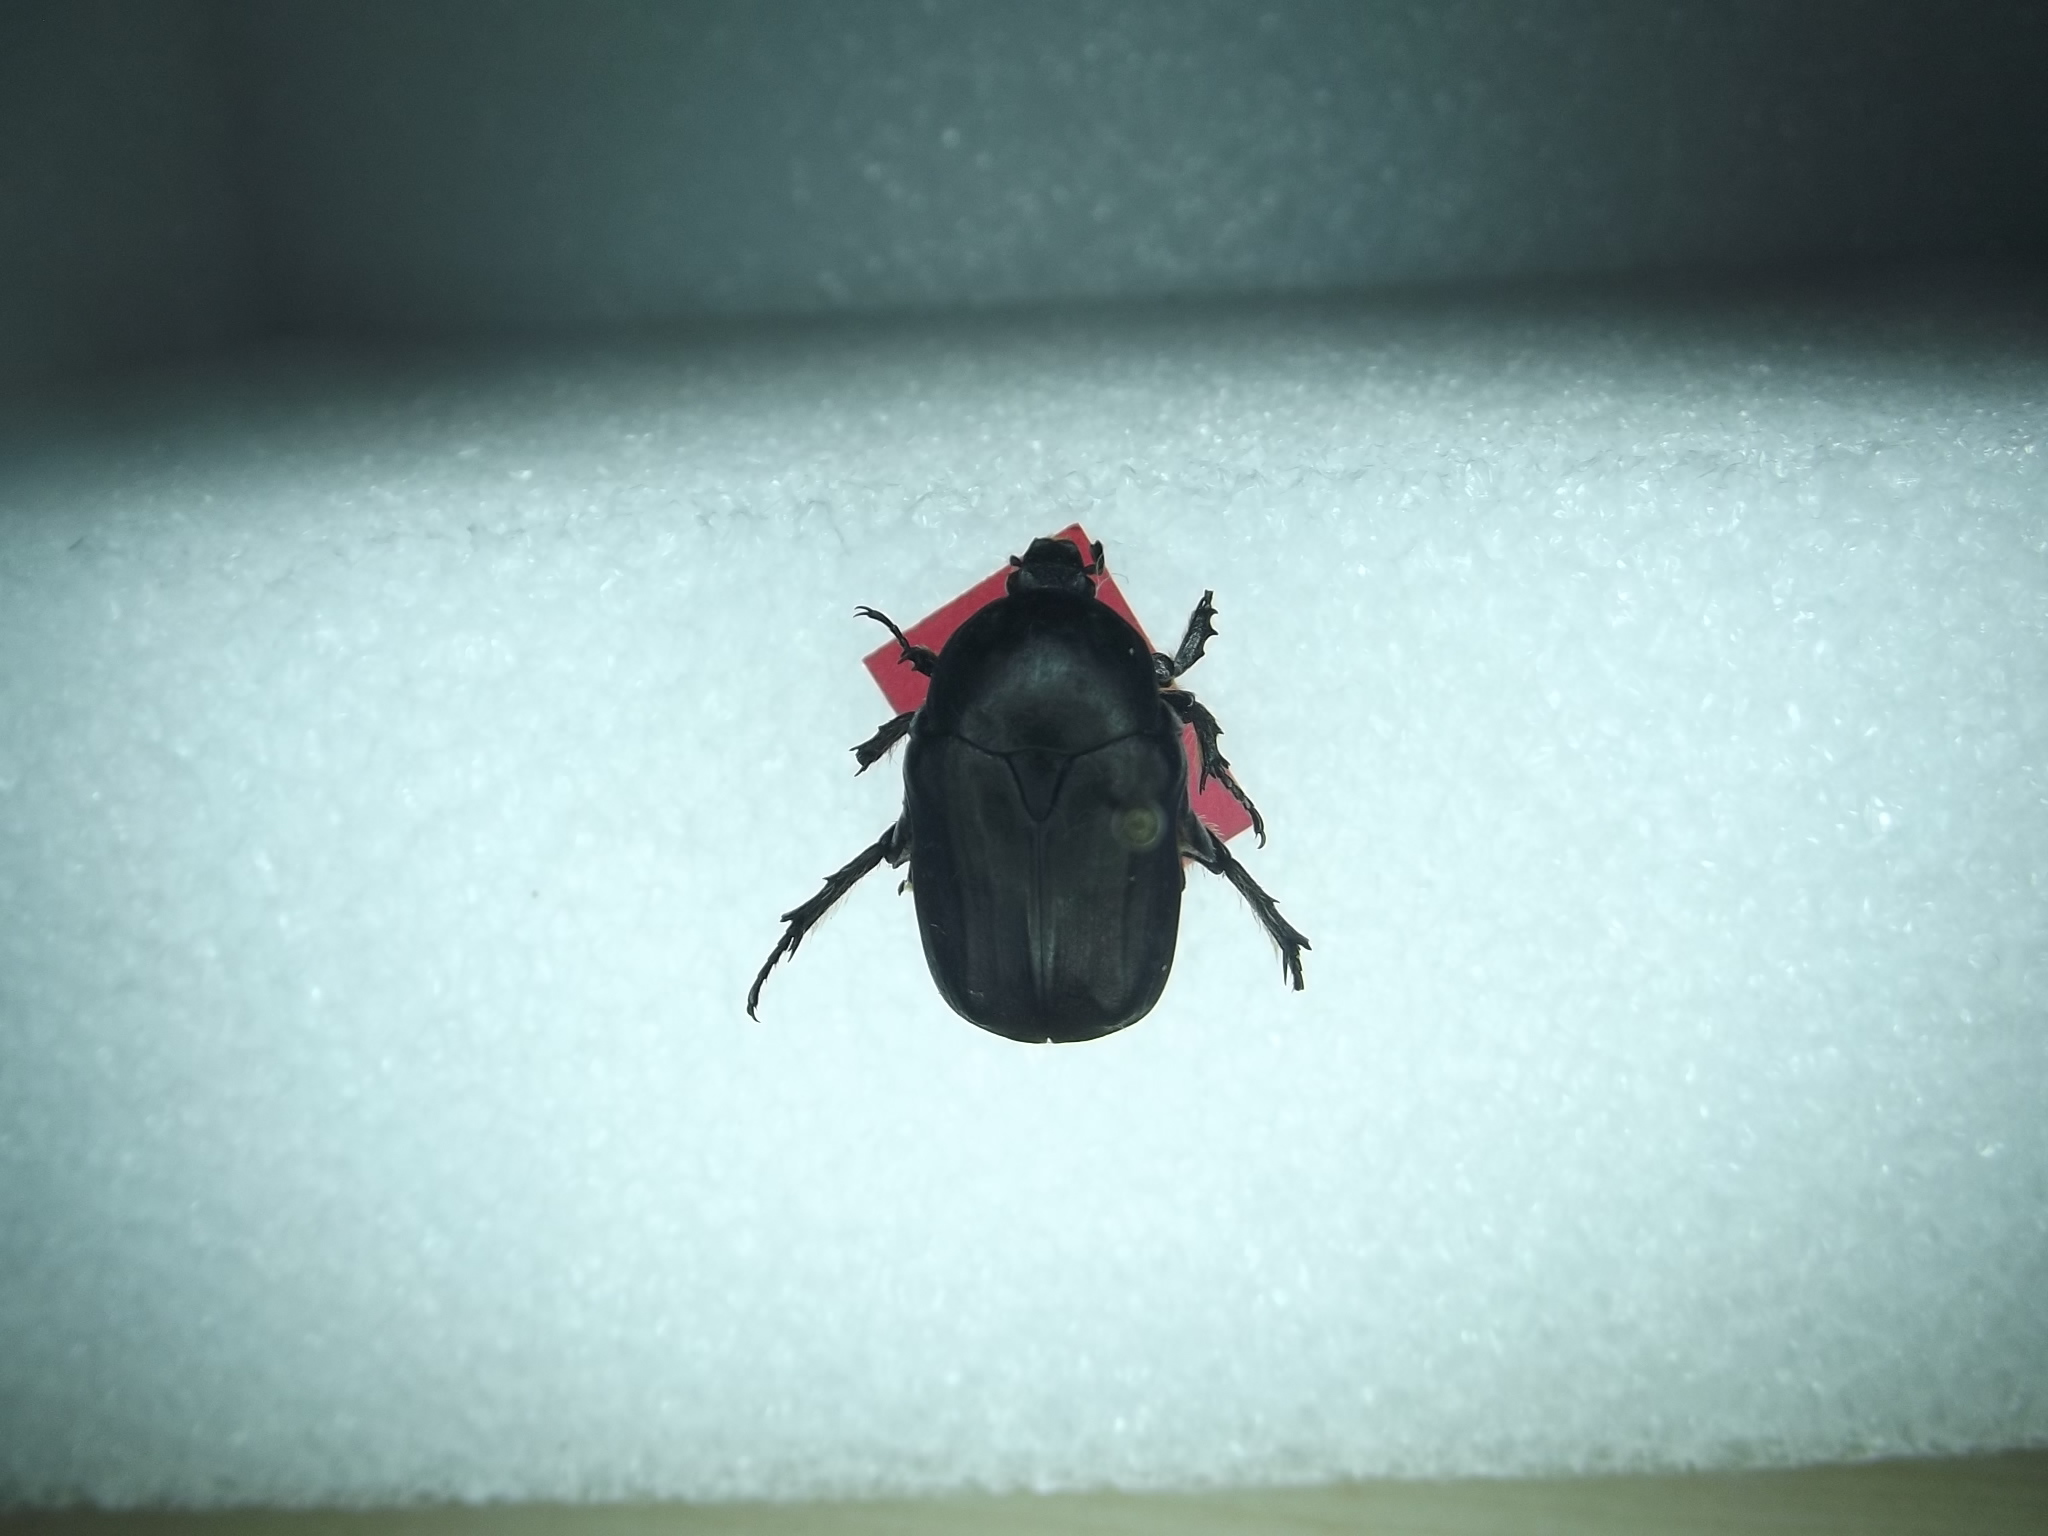Protaetia_vidua: (669, 479, 1338, 1146)
